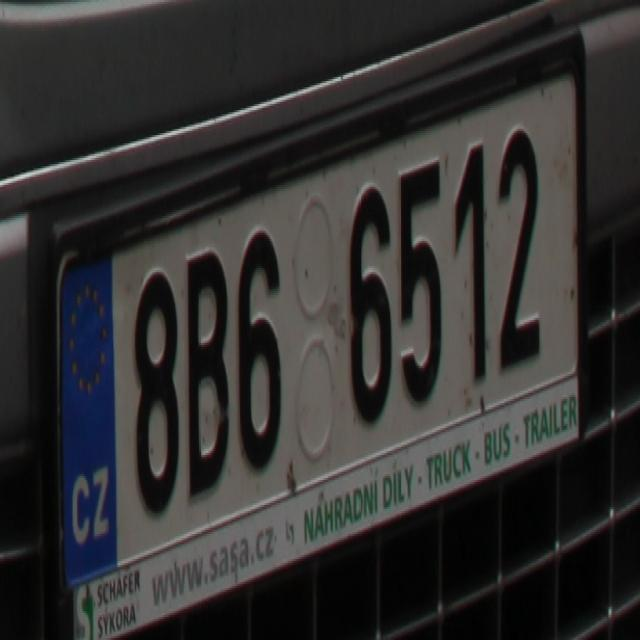1: (454, 136, 486, 387)
2: (498, 122, 543, 372)
5: (398, 152, 440, 397)
6: (234, 228, 280, 466), (348, 179, 392, 422)
8: (132, 268, 180, 507)
B: (187, 247, 229, 495)
